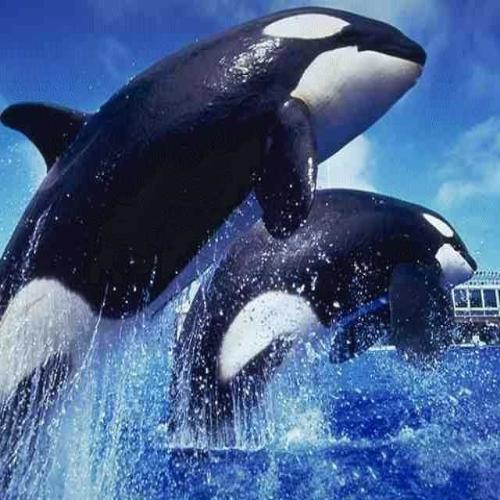killer_whale-endangered: (162, 175, 493, 479), (7, 3, 435, 194)
